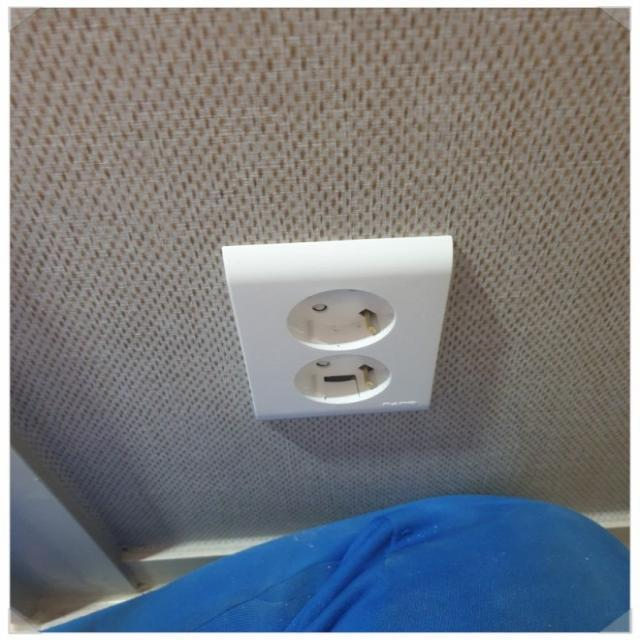typeb: (190, 214, 476, 453)
